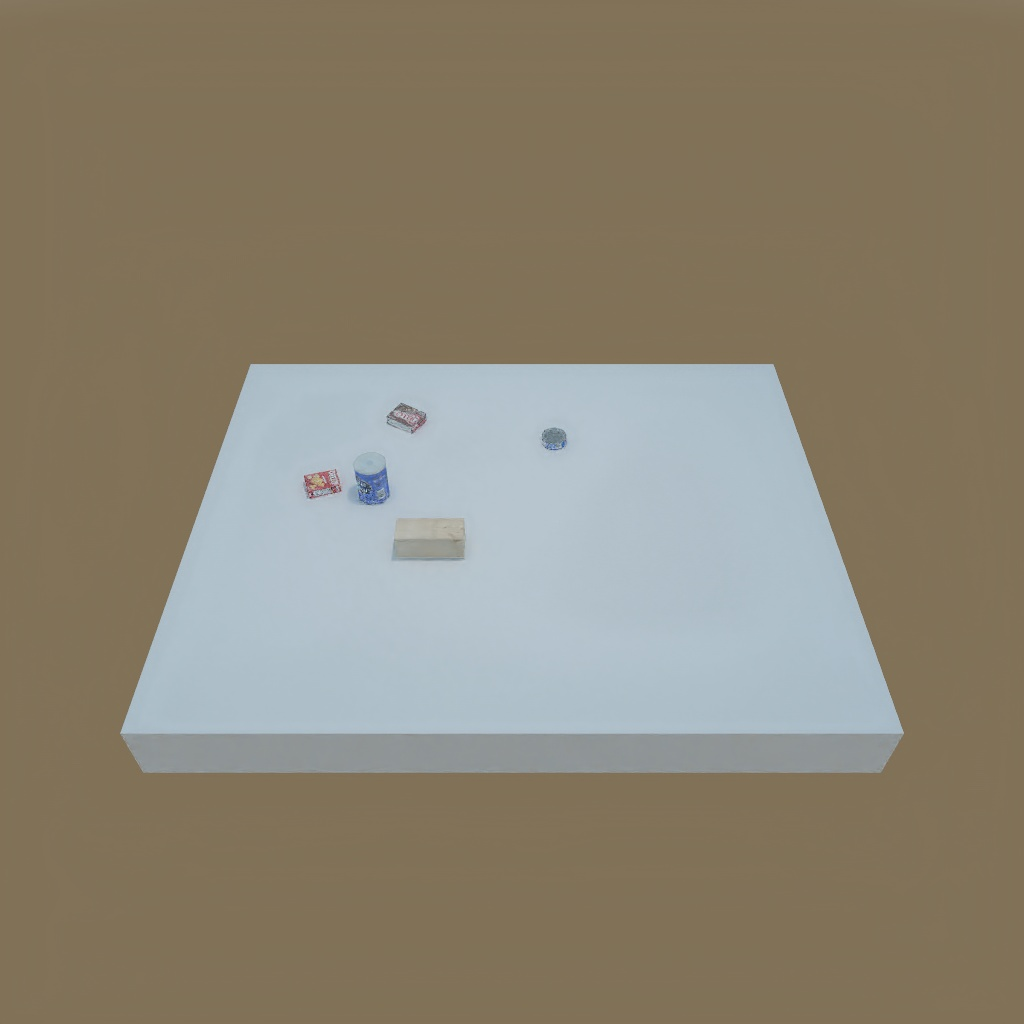master_chef_can: (350, 451, 390, 506)
pudding_box: (383, 402, 425, 433)
wood_block: (388, 514, 469, 567)
